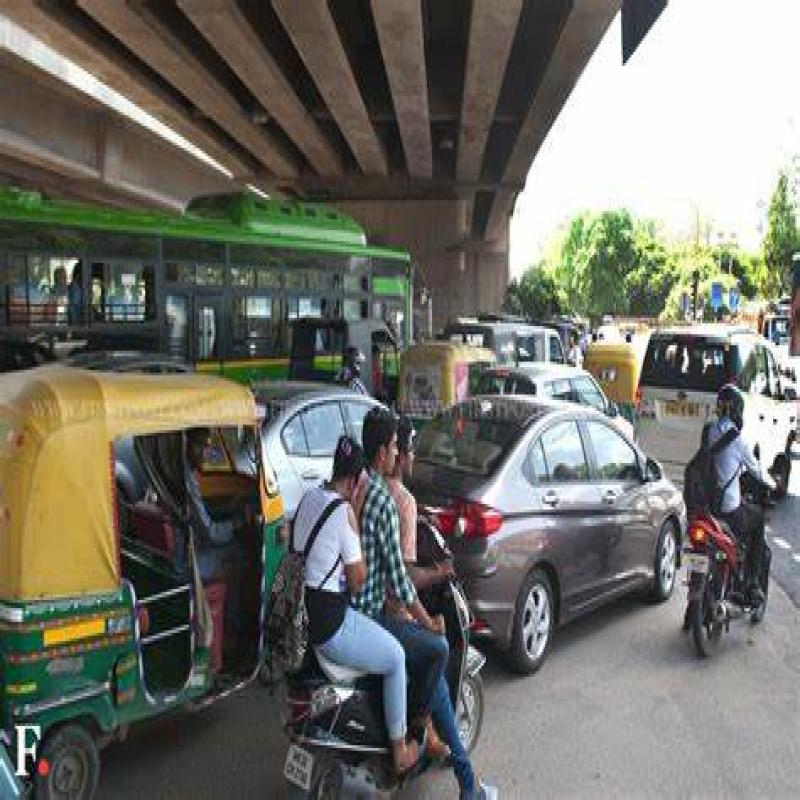auto: (3, 350, 288, 732)
car: (442, 384, 666, 626), (653, 325, 788, 491), (284, 656, 351, 740)
